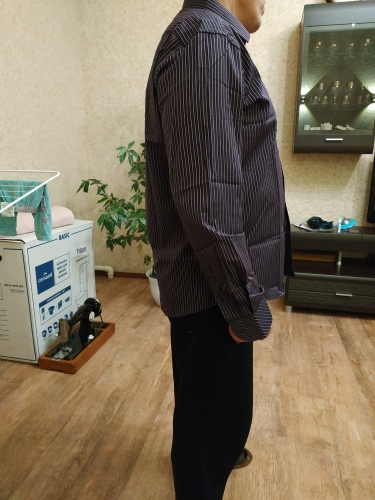shirts: (137, 5, 290, 349)
